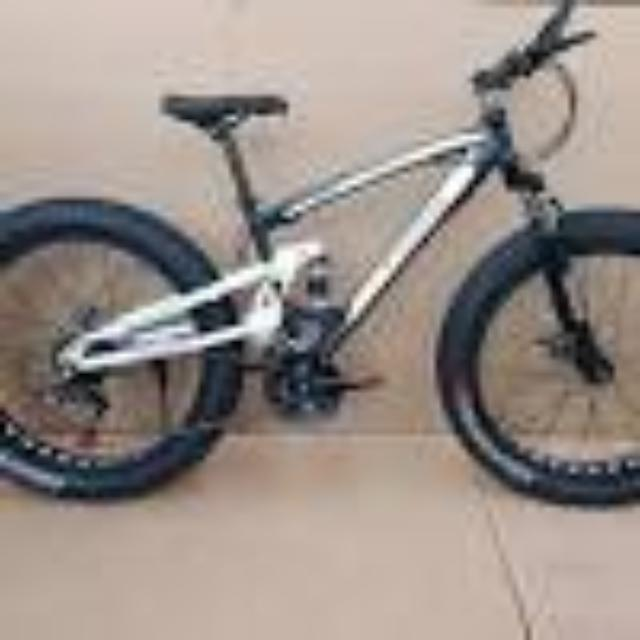obstacle: (3, 0, 640, 548), (639, 0, 640, 548)
